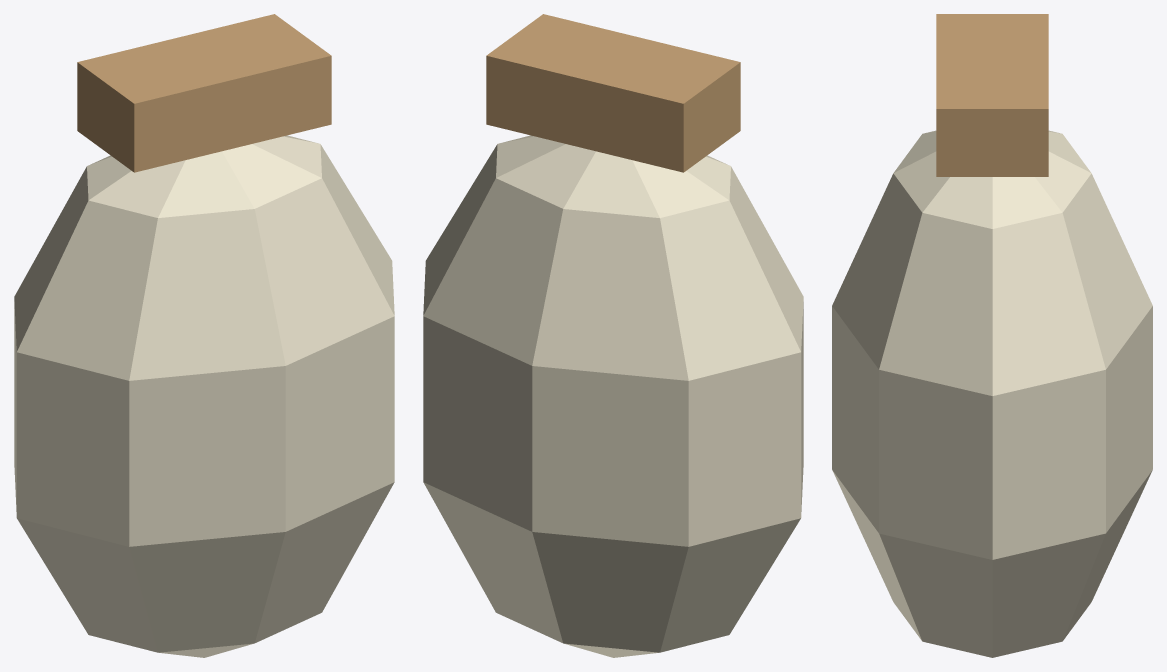
File: cozy-farm-and-homestead-grain-sack-e540b3bb__19413.glb
The picture shows the model from 3 angles, left to right: view 1: azimuth 30°, elevation 25°; view 2: azimuth 150°, elevation 25°; view 3: azimuth 270°, elevation 25°; orthographic projection.
Parts seen in each view (by area): view 1: grain-sack; view 2: grain-sack; view 3: grain-sack.
Boxes of the visible parts, left/top/right/bottom form: grain-sack: left=14, top=14, right=394, bottom=657; grain-sack: left=423, top=14, right=803, bottom=657; grain-sack: left=832, top=14, right=1152, bottom=657.
Size of the model in its own units: 0.5706 by 0.87 by 0.428.
